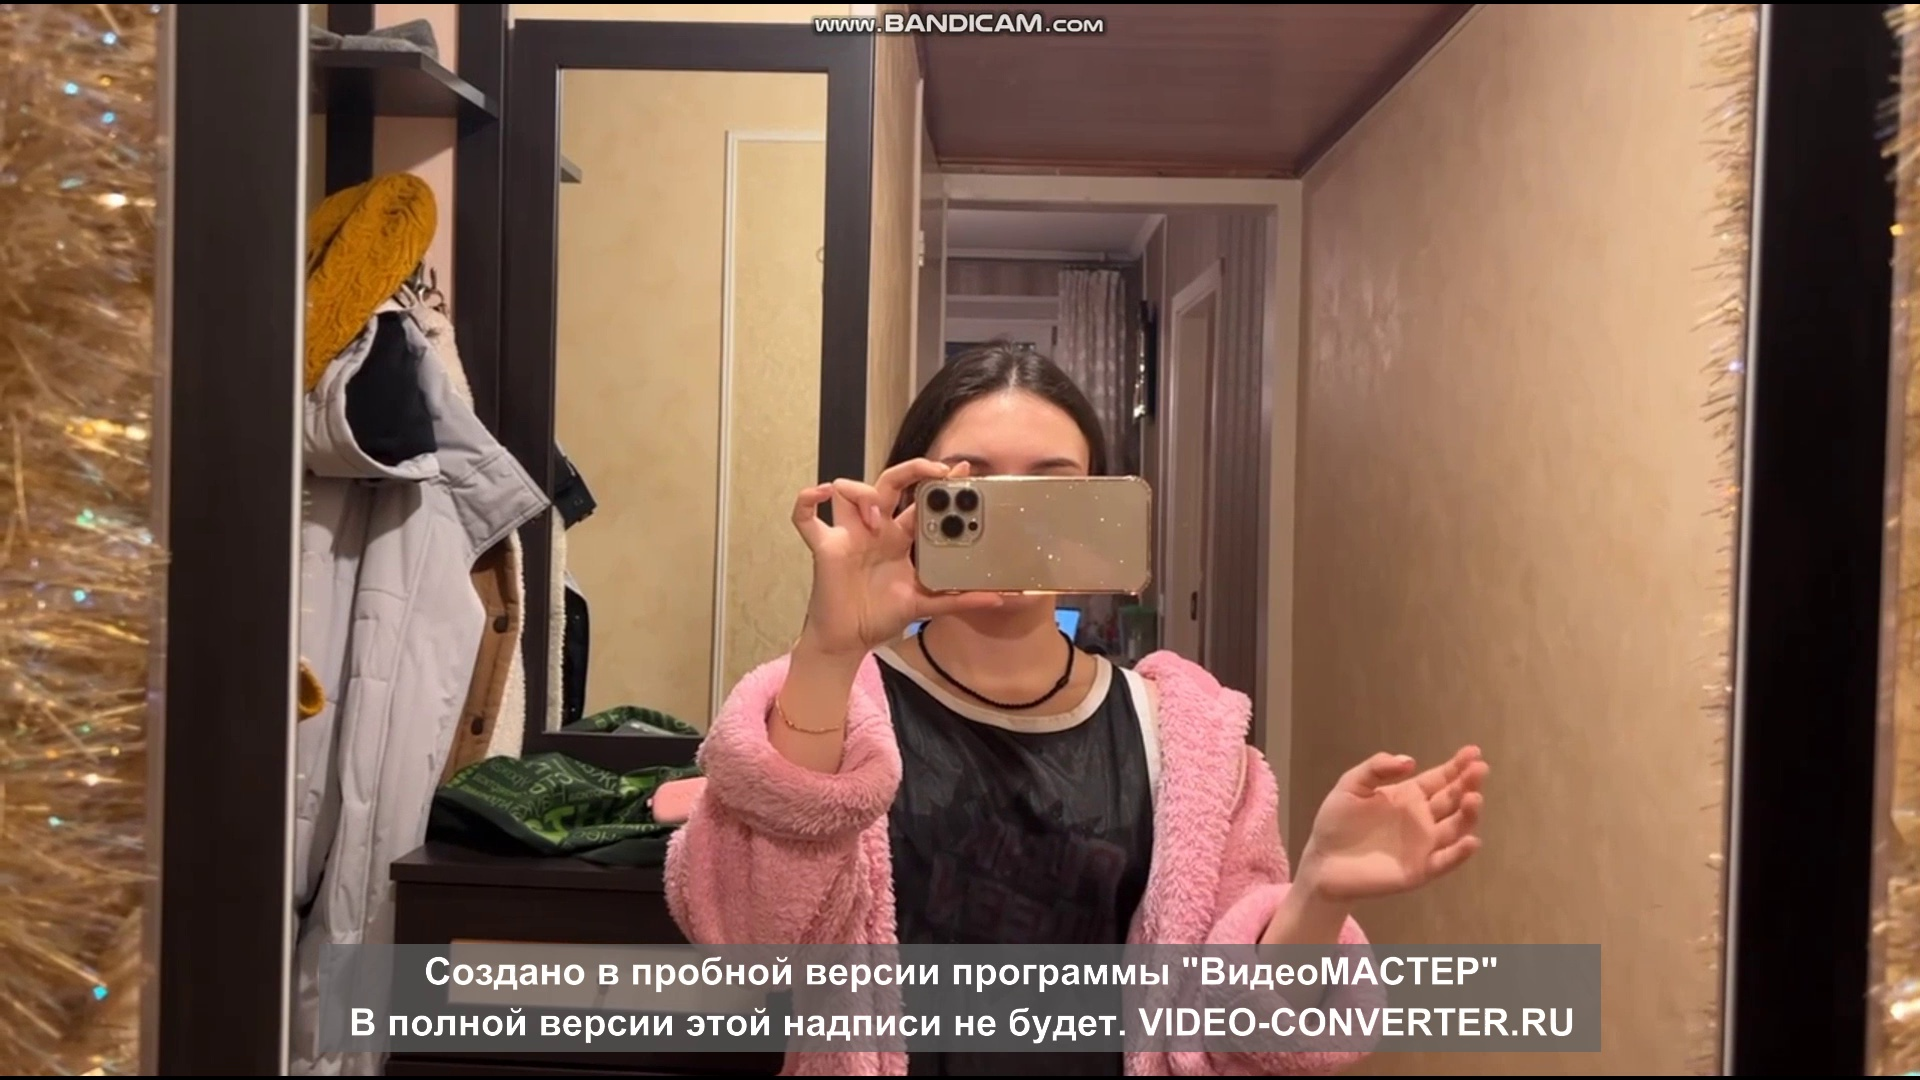Ладонь: (1307, 740, 1486, 903)
